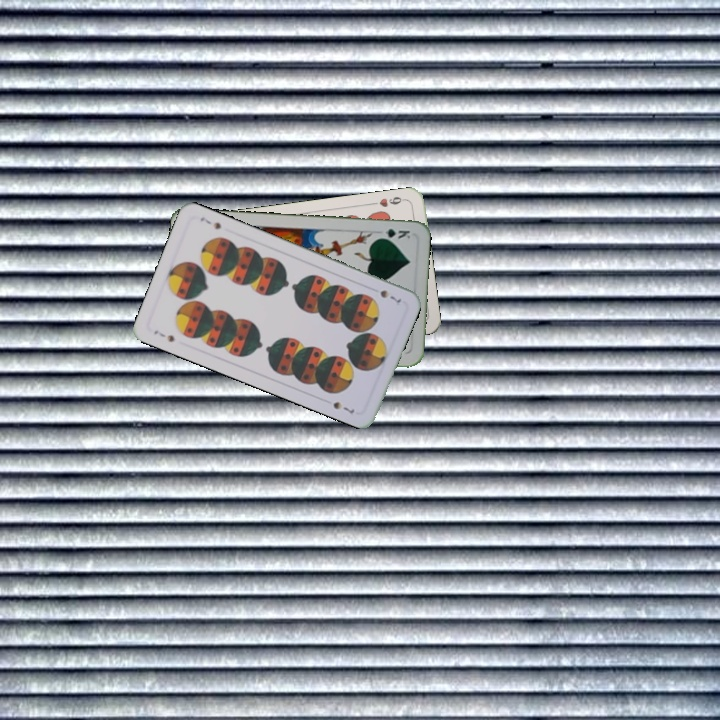GK: (373, 225, 413, 241)
H9: (368, 192, 409, 210)
S7: (376, 286, 404, 306), (150, 326, 177, 345)
